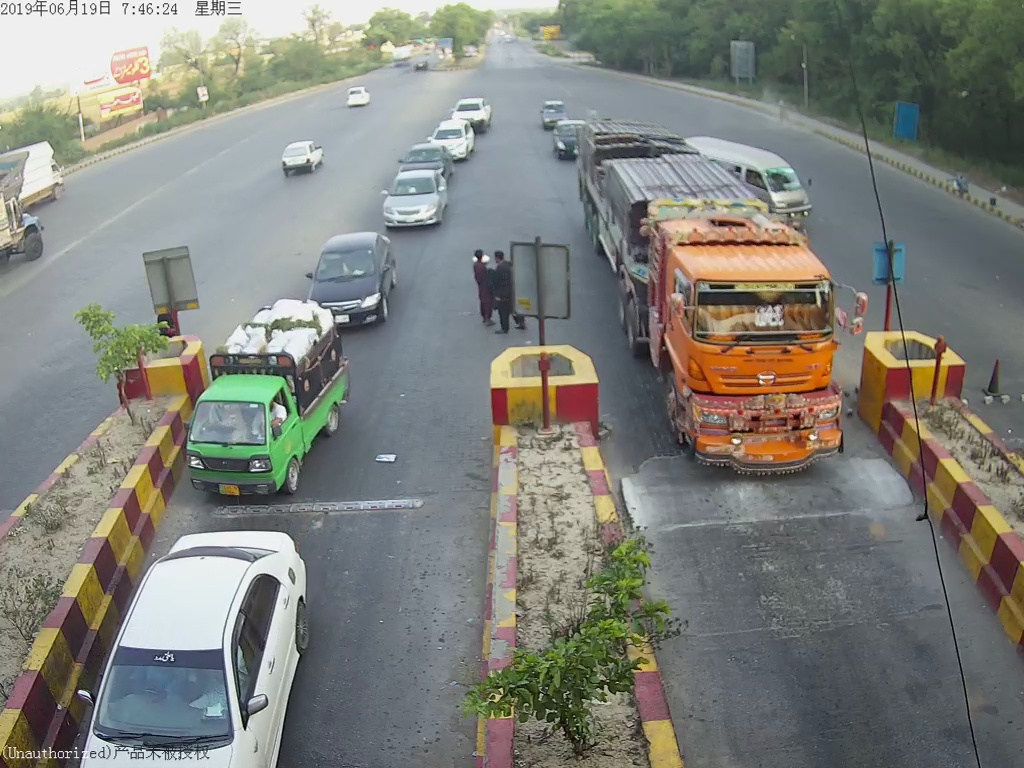Cat-1: (190, 302, 350, 498), (306, 231, 399, 317), (385, 171, 448, 225)
Cat-5: (585, 124, 882, 481)
